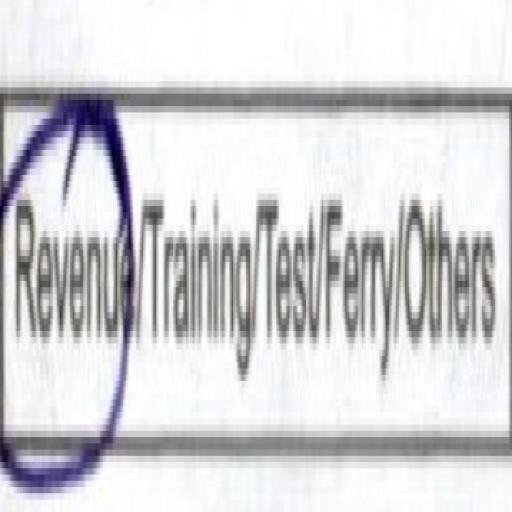check: (0, 45, 140, 510)
